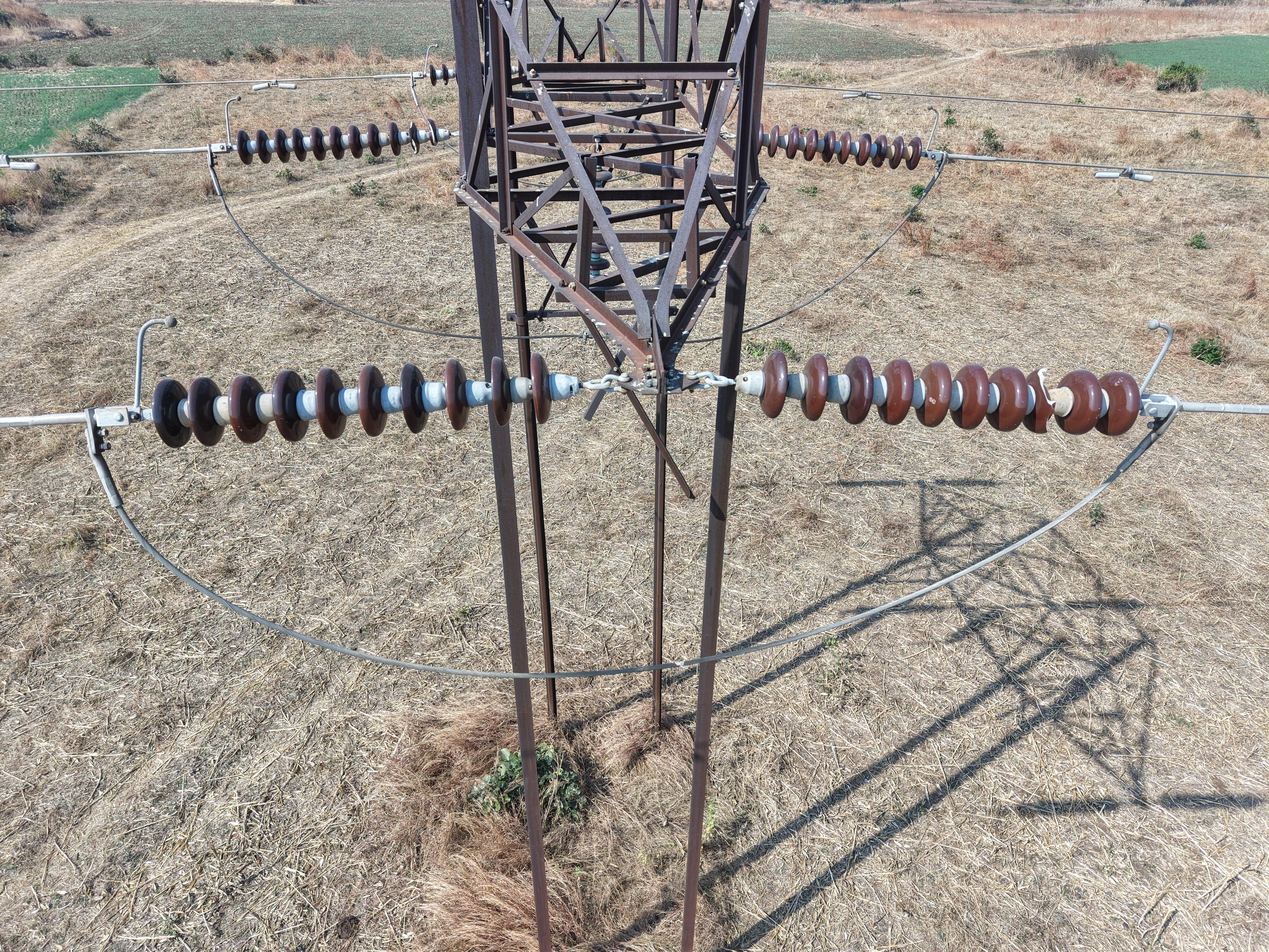broken_insulator: (1027, 365, 1059, 438), (407, 121, 420, 154), (426, 118, 439, 147), (441, 63, 449, 86)
